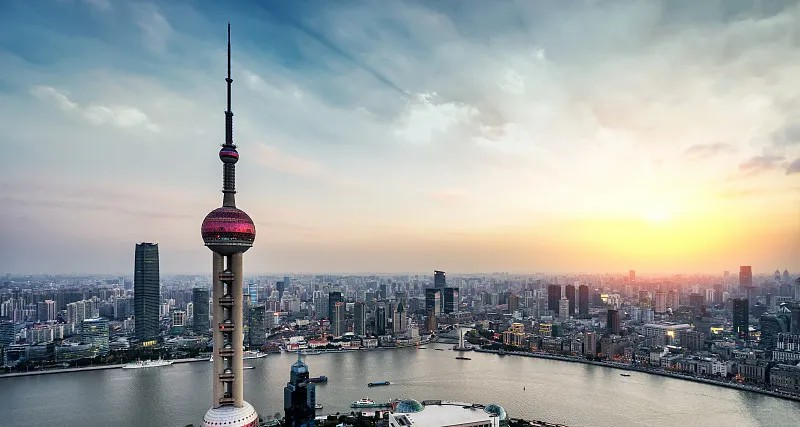Oriental: (201, 22, 259, 427)
